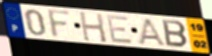0: (23, 8, 49, 37)
A: (137, 18, 169, 48)
B: (160, 18, 190, 49)
E: (105, 14, 135, 45)
F: (46, 8, 74, 40)
H: (78, 10, 109, 44)
